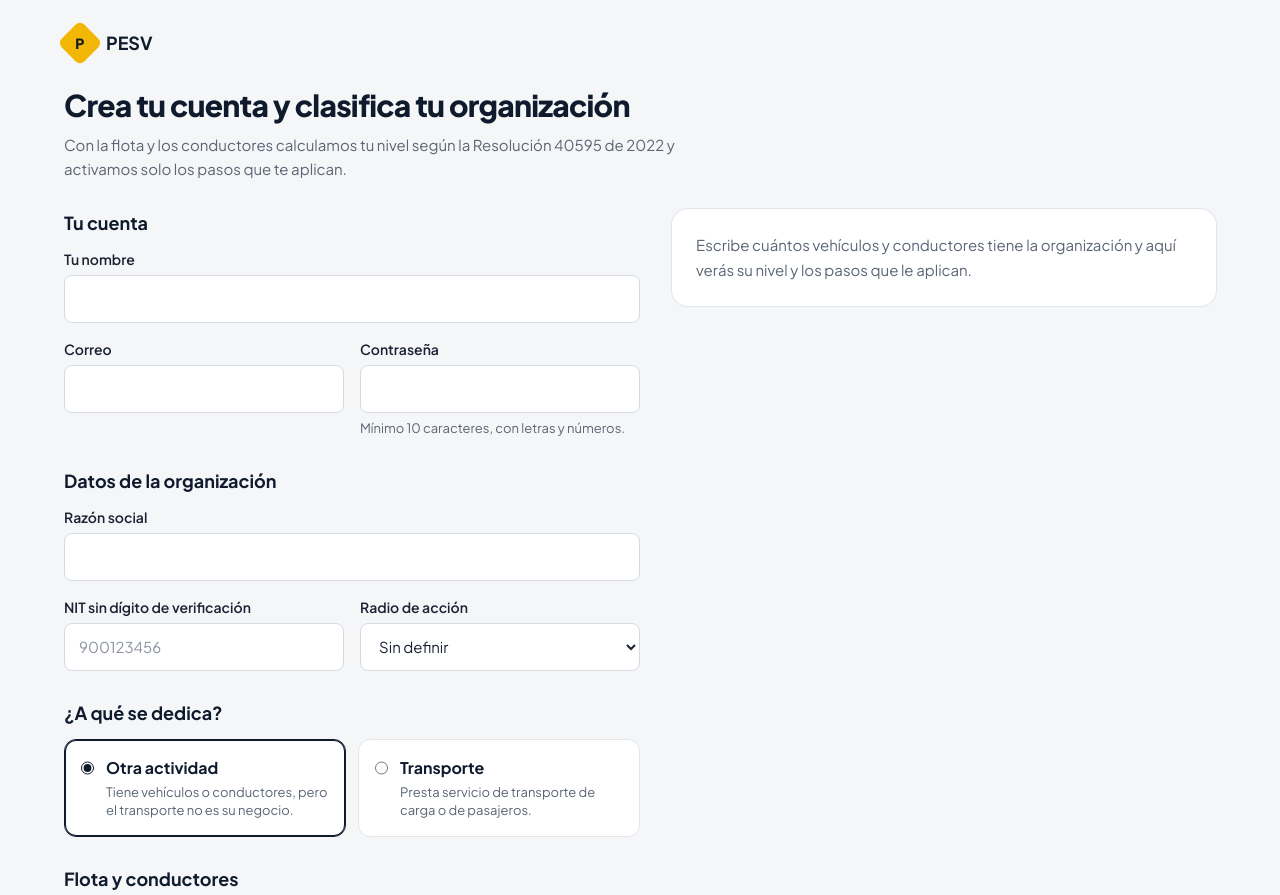
it: Registro › pide la modalidad solo para empresas de transporte
Expected: the field labelled "Modalidad de transporte" is not shown
What coordinates should you click on to do the following:
click the radio button labelled "Transporte"
I would click on:
 (382, 768)
Its box is x1=375 y1=760 x2=388 y2=776.
(page scrolled)
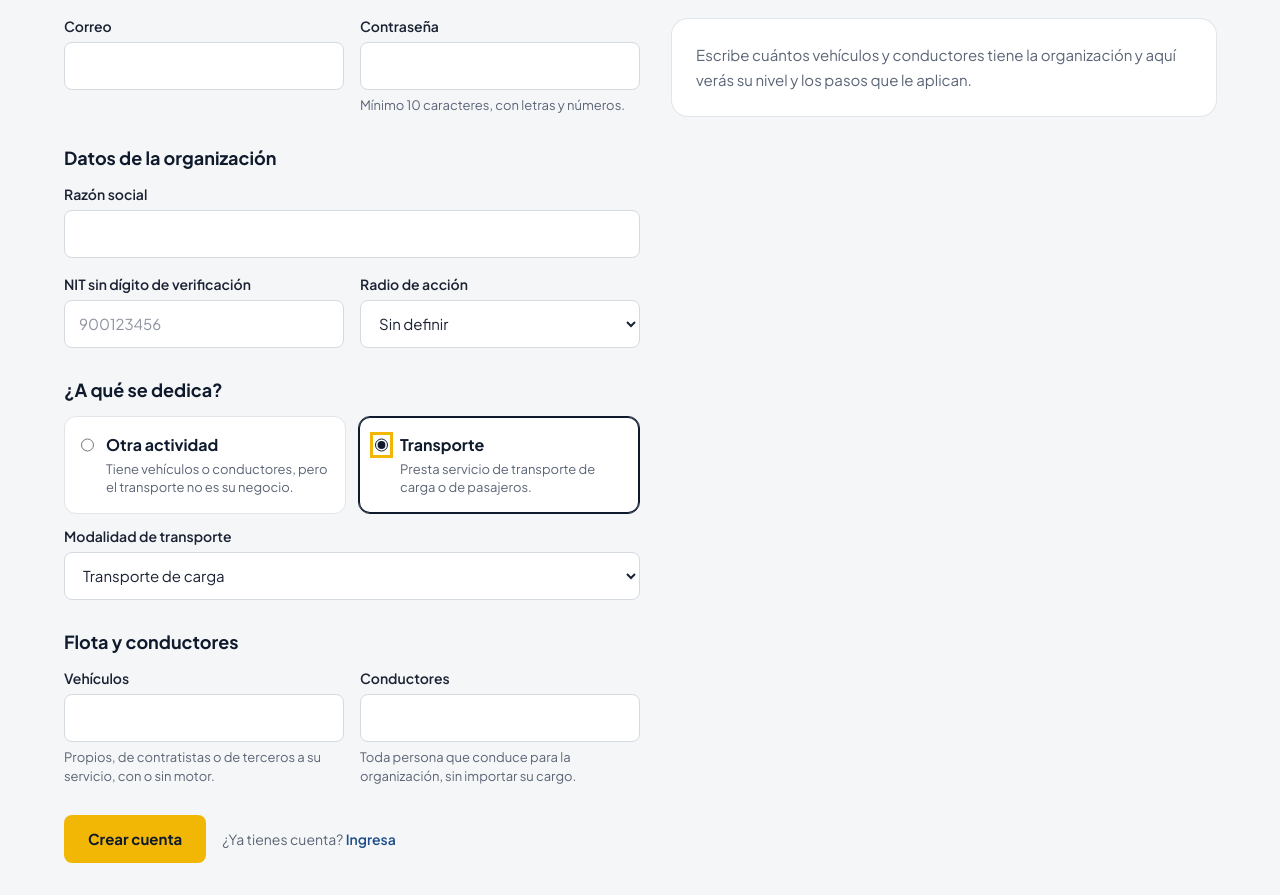
Result: the dropdown labelled "Modalidad de transporte" is shown at x1=64 y1=552 x2=640 y2=600
